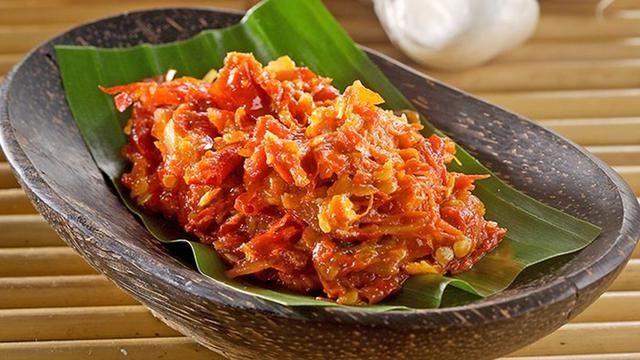sambal: (106, 50, 507, 304)
